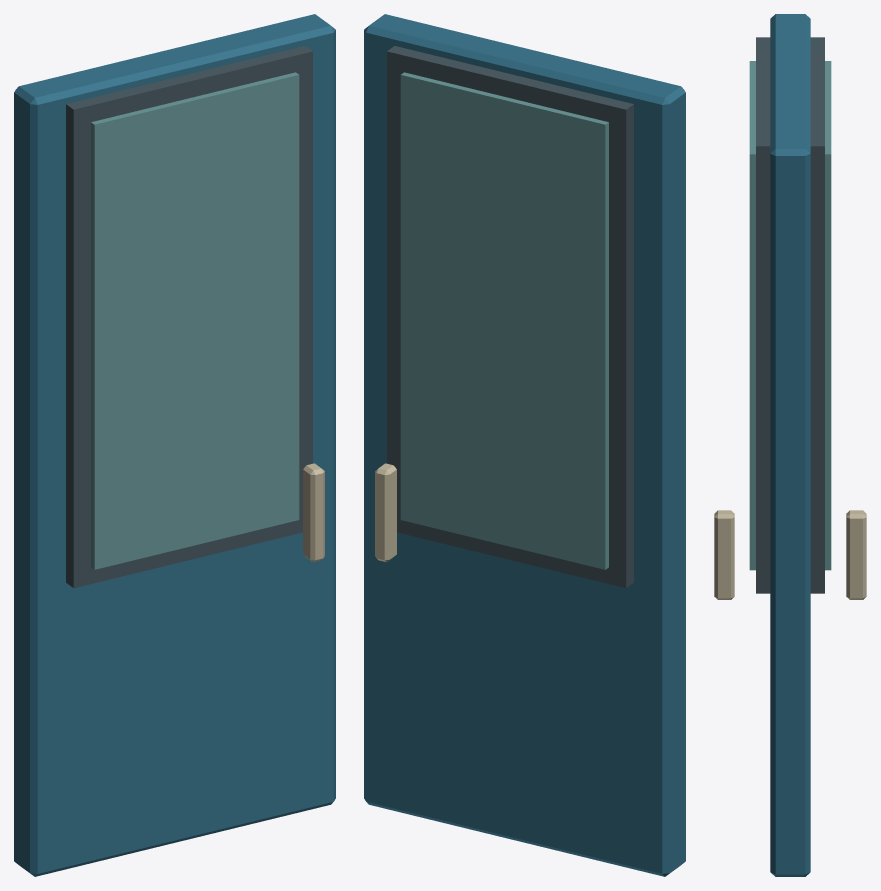
The model's file is door_glass_store.glb.
3 renders of one model, left to right at view 1: azimuth 30°, elevation 25°; view 2: azimuth 150°, elevation 25°; view 3: azimuth 270°, elevation 25°, orthographic. The views are drawn at different scales.
Visible parts, largest first — view 1: door_glass_store; view 2: door_glass_store; view 3: door_glass_store.
Part boxes in pixels (bbox=[...]): door_glass_store: bbox=[14, 14, 335, 876]; door_glass_store: bbox=[364, 14, 685, 876]; door_glass_store: bbox=[714, 14, 866, 876].
Size of the model in its own units: 1.15 by 2.8 by 0.53.
